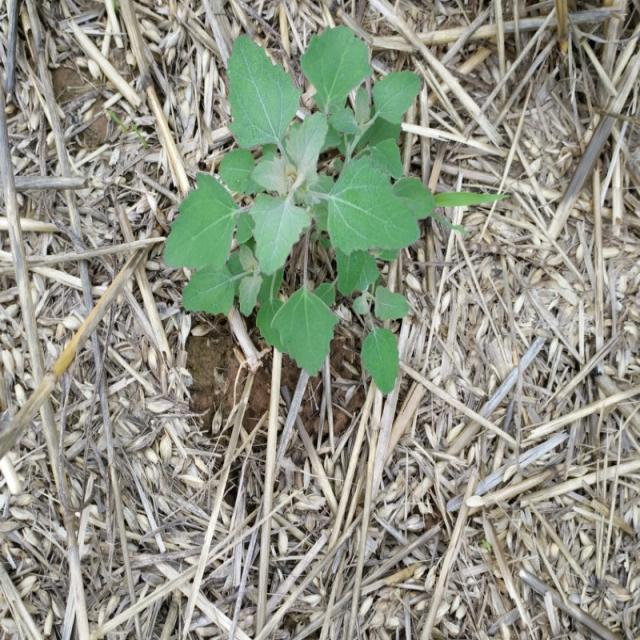goosefoots: (162, 41, 439, 370)
